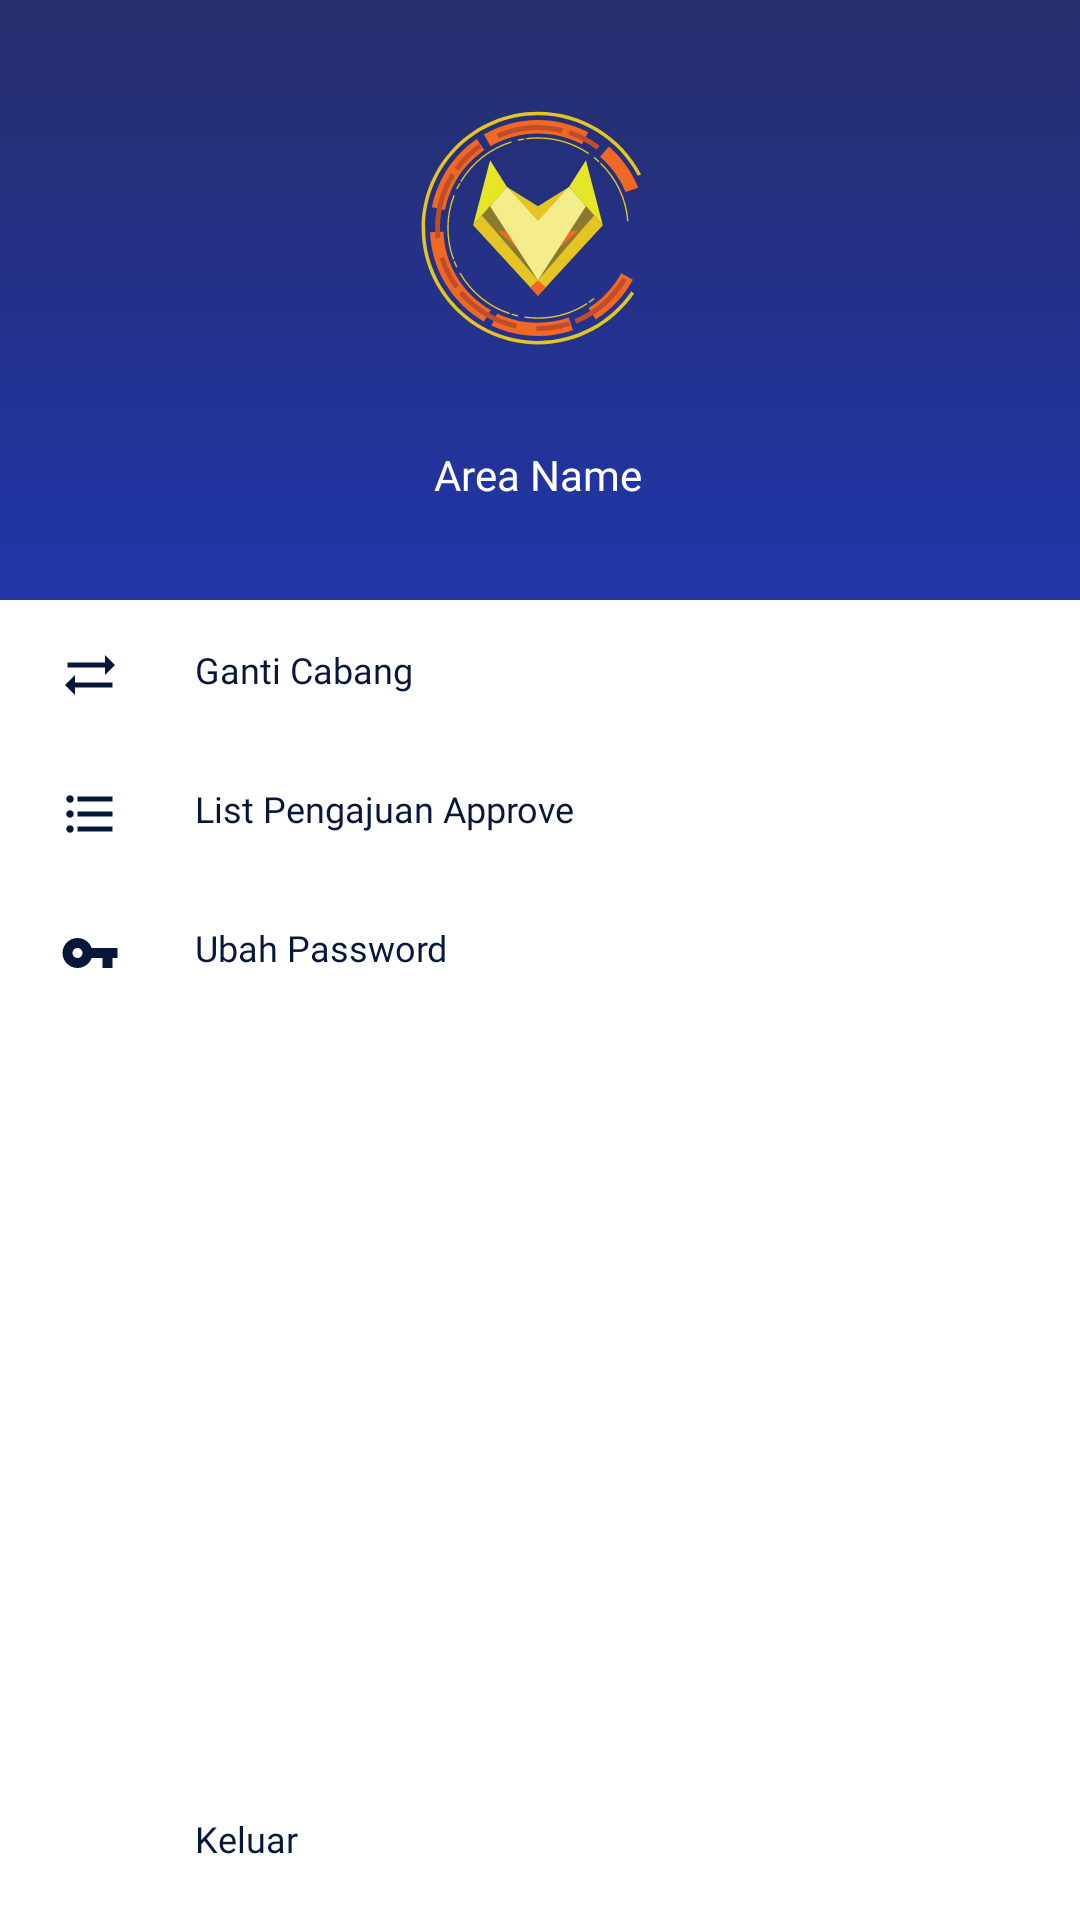

Where to tap for icons on this 1080x1920 app screen, as (x,y):
key: (90,953)
sync: (90,675)
